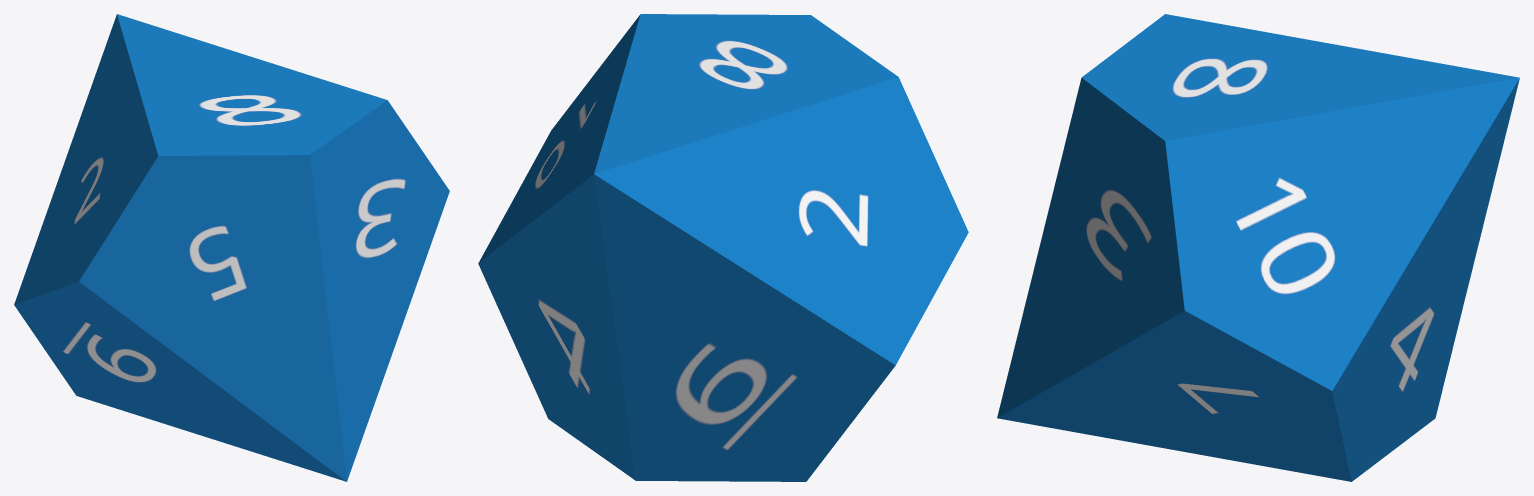
3 views of the same model, side by side, from view 1: azimuth 30°, elevation 25°; view 2: azimuth 150°, elevation 25°; view 3: azimuth 270°, elevation 25° (orthographic). The views are drawn at different scales.
Visible parts, largest first — view 1: d10; view 2: d10; view 3: d10.
Boxes of the visible parts, x1,y1,x2,y2 form: d10: (14,14,449,481); d10: (478,14,968,481); d10: (997,14,1519,481).
Size of the model in its own units: 22.01 by 17 by 23.64.
Materials: 1 (1 with a texture image).
